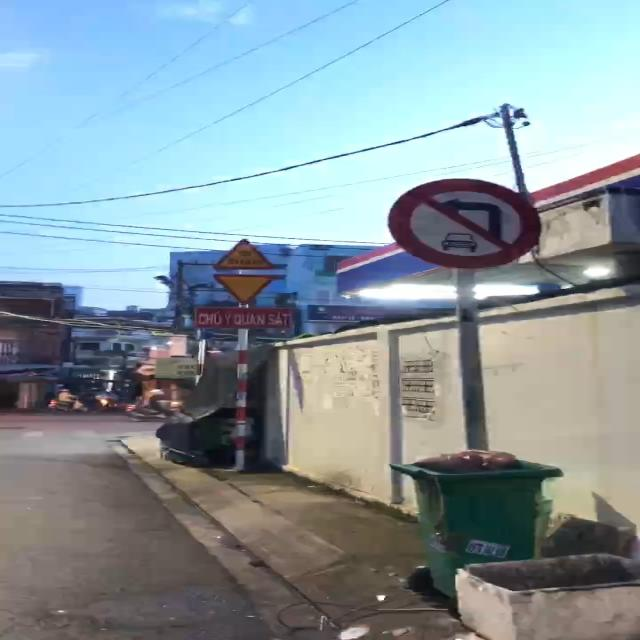Bien bao giao nhau voi duong uu tien: (208, 270, 275, 303)
